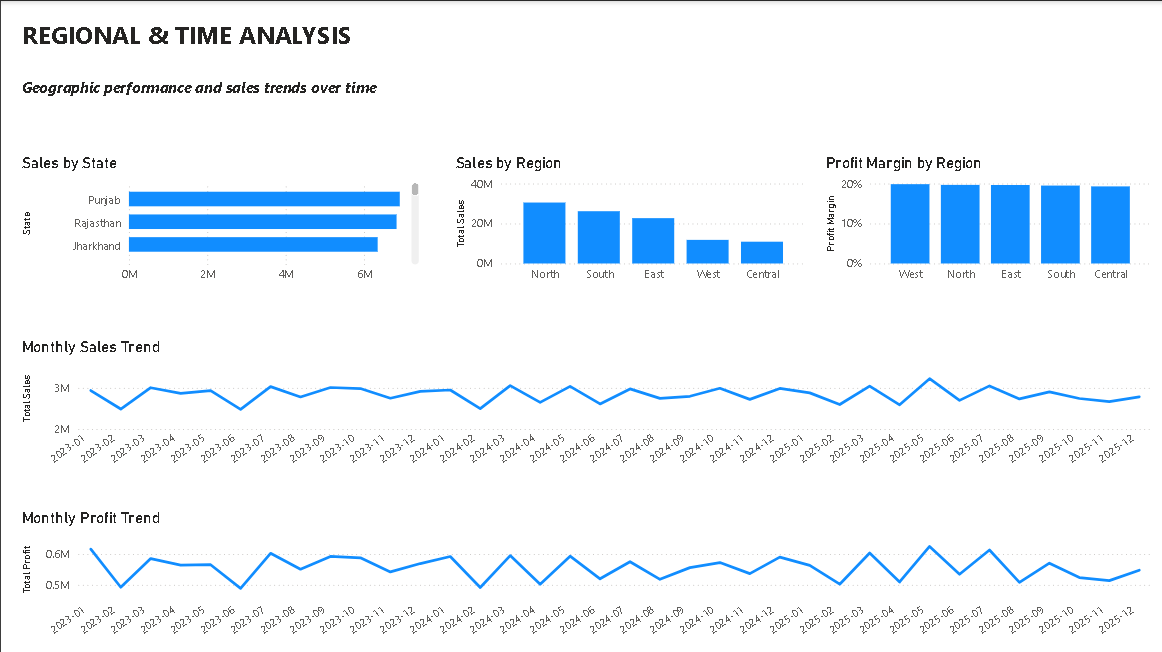

What the dashboard file says about the page in this screenshot:
{"tool":"powerbi","page":{"name":"Regional & Time Analysis","canvas":[1280,720],"ordinal":2},"visuals":[{"type":"textbox","box":[17.8,13.7,413,64.5],"z":0},{"type":"textbox","box":[17.8,78.2,487.1,37],"z":1000},{"type":"clusteredBarChart","title":"Sales by State","fields":{"Category":["DimLocation.State"],"Y":["DimCustomer.Total Sales"]},"box":[17.8,167.4,446,150.9],"z":2000},{"type":"clusteredColumnChart","title":"Sales by Region","fields":{"Category":["DimLocation.Region"],"Y":["DimCustomer.Total Sales"]},"box":[494,167.4,395.2,150.9],"z":3000},{"type":"lineChart","title":"Monthly Sales Trend","fields":{"Category":["DimDate.Year Month"],"Y":["DimCustomer.Total Sales"]},"box":[17.8,369.1,1250.1,150.9],"z":4000},{"type":"lineChart","title":"Monthly Profit Trend","fields":{"Category":["DimDate.Year Month"],"Y":["DimCustomer.Total Profit"]},"box":[17.8,557.1,1250.1,150.9],"z":5000},{"type":"clusteredColumnChart","title":"Profit Margin by Region","fields":{"Category":["DimLocation.Region"],"Y":["DimCustomer.Profit Margin"]},"box":[900.2,167.4,367.8,150.9],"z":6000}]}

Visuals, with their boxes in screenshot pixels (x1, y1, x2, y2), scaled from the page's 1280x720 canvas onto the 1162x652 screenshot:
textbox: l=16, t=12, r=391, b=71
textbox: l=16, t=71, r=458, b=104
"Sales by State" clusteredBarChart: l=16, t=152, r=421, b=288
"Sales by Region" clusteredColumnChart: l=448, t=152, r=807, b=288
"Monthly Sales Trend" lineChart: l=16, t=334, r=1151, b=471
"Monthly Profit Trend" lineChart: l=16, t=504, r=1151, b=641
"Profit Margin by Region" clusteredColumnChart: l=817, t=152, r=1151, b=288
